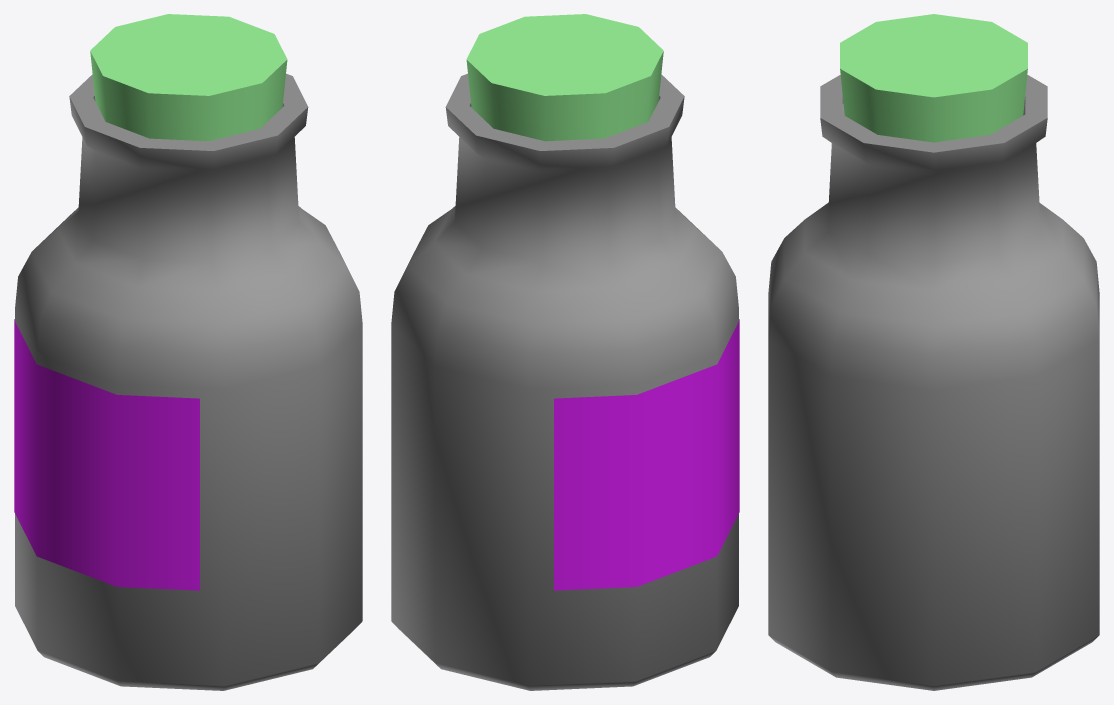
The model's file is Flask03.FBX.
3 renders of one model, left to right at view 1: azimuth 30°, elevation 25°; view 2: azimuth 150°, elevation 25°; view 3: azimuth 270°, elevation 25°, orthographic.
Visible parts, largest first — view 1: Flask_03; view 2: Flask_03; view 3: Flask_03.
Boxes of the visible parts, box(x1,y1,x2,y2) form: Flask_03: box(14, 14, 362, 690); Flask_03: box(391, 14, 739, 690); Flask_03: box(768, 14, 1099, 690).
Size of the model in its own units: 0.5813 by 1.04 by 0.5516.
